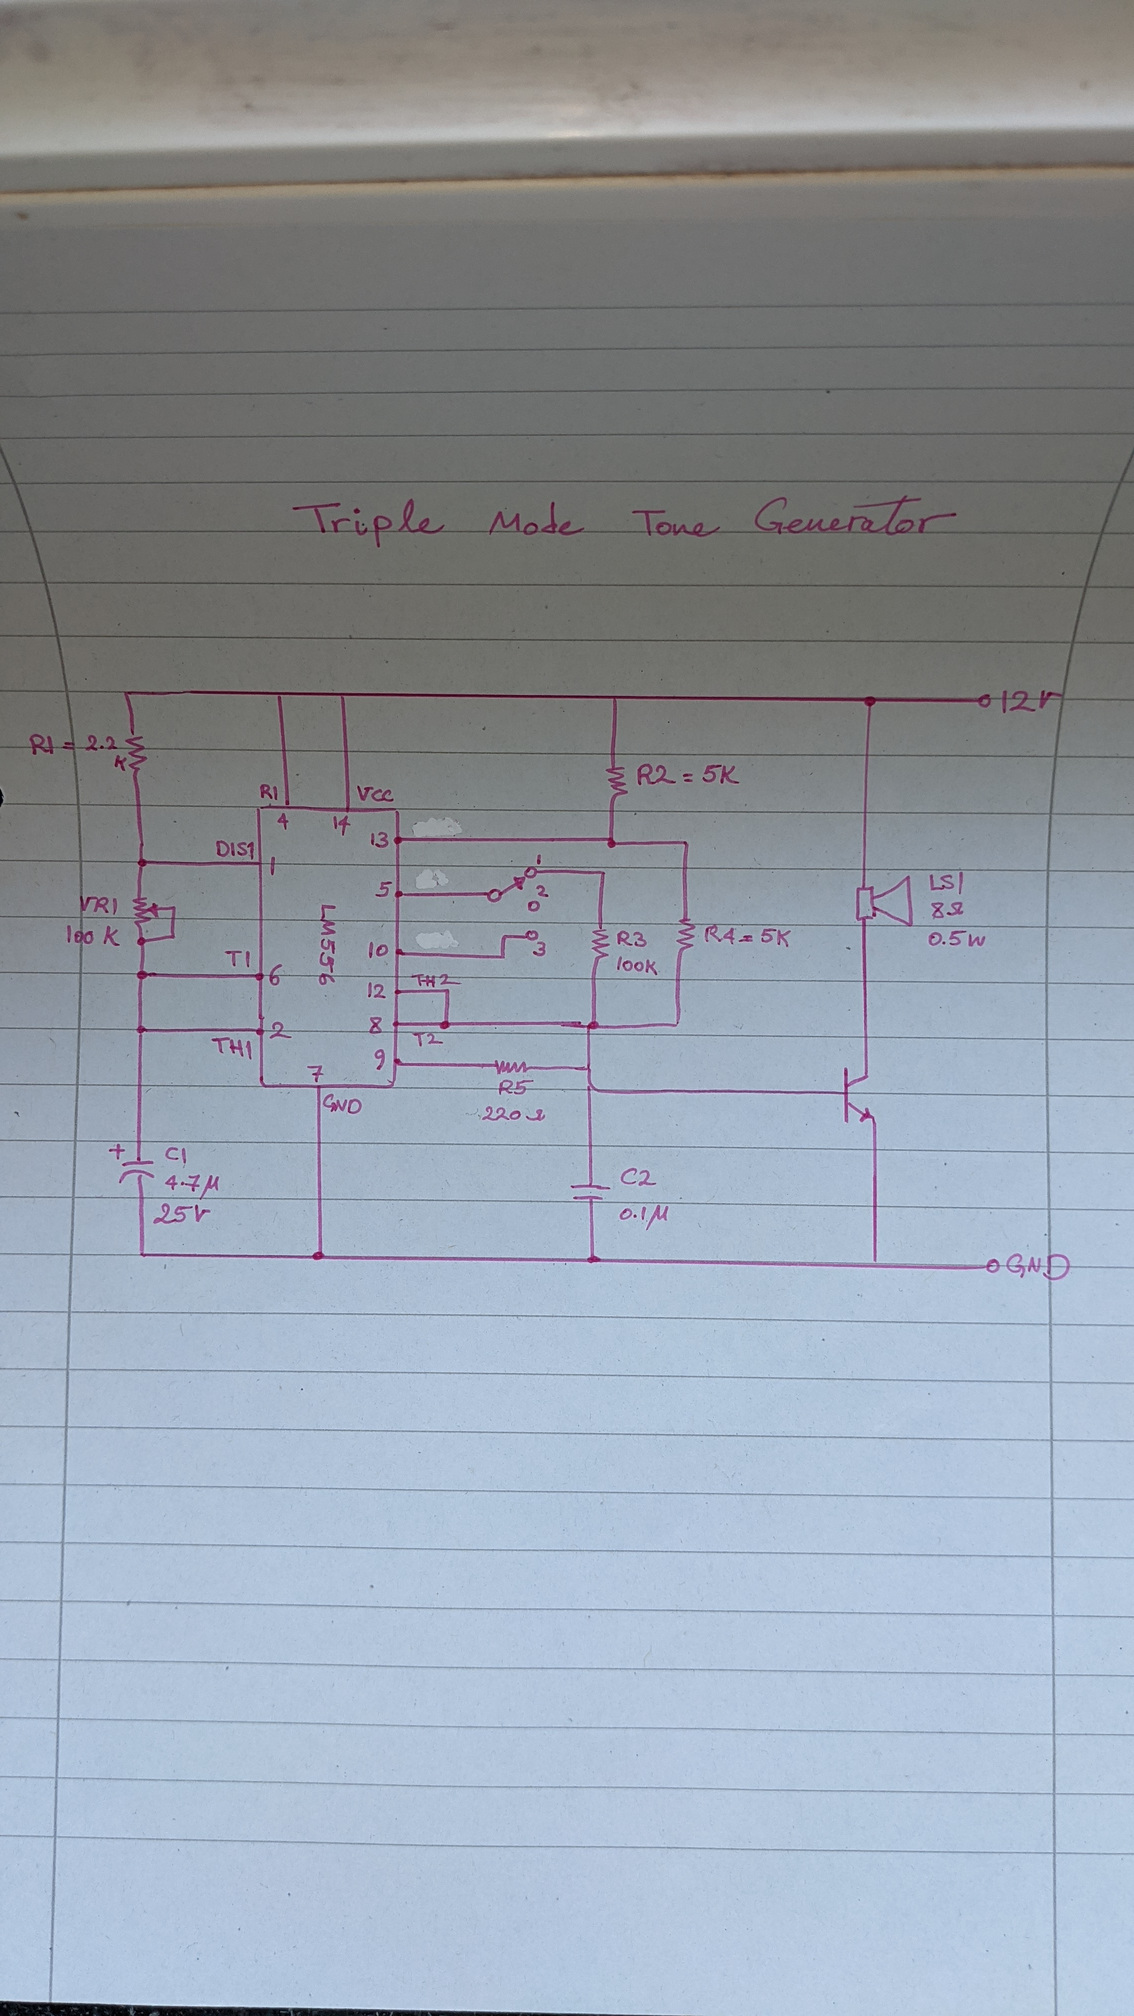capacitor.polarized: (108, 1142, 158, 1187)
capacitor.unpolarized: (568, 1180, 615, 1205)
integrated_circuit: (255, 803, 406, 1092)
junction: (584, 1080, 601, 1097), (310, 1249, 328, 1264), (604, 835, 619, 850), (136, 969, 152, 983), (583, 1019, 601, 1032), (584, 1254, 604, 1266), (134, 1023, 150, 1037), (863, 694, 878, 708), (438, 1018, 453, 1032), (136, 857, 150, 870), (136, 935, 148, 948), (137, 1248, 150, 1260), (672, 1019, 685, 1030), (680, 838, 692, 849), (336, 690, 348, 701), (274, 690, 285, 701), (870, 1259, 881, 1270), (120, 688, 133, 698), (440, 987, 453, 997), (611, 692, 620, 703), (168, 932, 179, 942), (168, 903, 179, 912), (598, 870, 609, 878), (583, 1063, 594, 1072), (500, 933, 510, 942), (498, 953, 508, 961)
resistor: (125, 730, 150, 775), (604, 764, 631, 800), (588, 925, 612, 961), (492, 1058, 532, 1077), (676, 917, 696, 954)
resistor.adjustable: (129, 894, 162, 929)
speaker: (852, 872, 917, 932)
switch: (485, 865, 541, 914)
terminal: (983, 1256, 1002, 1277), (975, 691, 994, 712), (523, 928, 539, 942)
text: (288, 492, 964, 552), (28, 731, 127, 773), (636, 760, 742, 786), (701, 922, 796, 948), (1004, 1250, 1073, 1284), (316, 901, 341, 989), (998, 685, 1063, 714), (162, 1173, 222, 1200), (150, 1200, 213, 1225), (618, 1203, 672, 1232), (64, 922, 122, 948), (926, 928, 987, 951), (480, 1104, 548, 1124), (613, 953, 662, 978), (209, 1036, 253, 1062), (78, 892, 120, 918), (926, 870, 966, 897), (321, 1092, 366, 1116), (618, 1164, 658, 1189), (408, 971, 464, 989), (213, 838, 256, 860), (354, 784, 397, 803), (928, 899, 966, 919), (615, 928, 649, 950), (497, 1077, 534, 1097), (410, 1029, 446, 1048), (223, 948, 253, 971), (364, 979, 389, 1002), (267, 1019, 294, 1041), (331, 813, 353, 838), (364, 939, 390, 960), (162, 1145, 190, 1164), (367, 829, 390, 852), (256, 782, 280, 803), (366, 1014, 385, 1036), (372, 879, 393, 899), (305, 1063, 325, 1083), (267, 962, 284, 986), (372, 1047, 388, 1072), (267, 853, 281, 878), (276, 811, 292, 831), (532, 940, 548, 960), (534, 883, 551, 899), (534, 852, 546, 867)
transistor: (840, 1065, 886, 1127)
